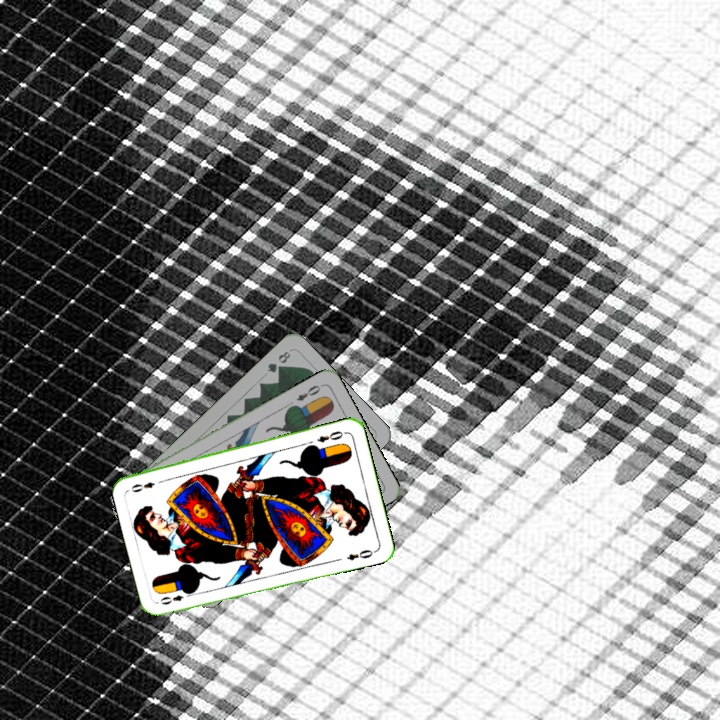EO: (156, 587, 195, 607), (292, 381, 323, 404), (313, 427, 348, 445)
G8: (263, 347, 293, 375)
